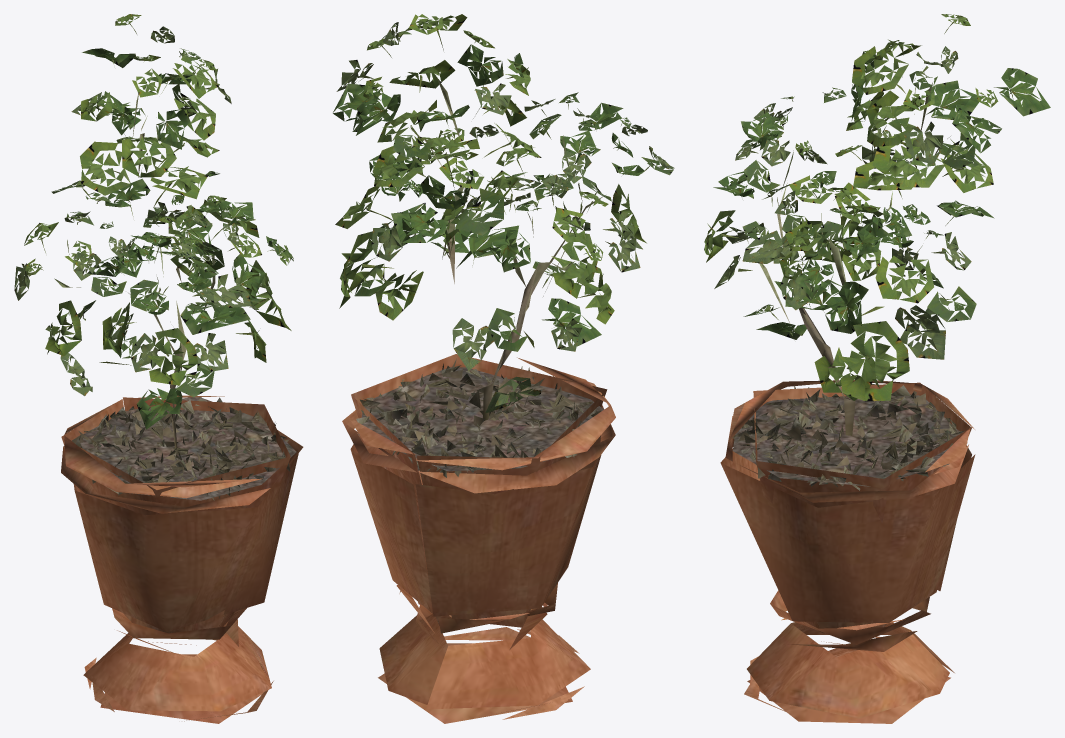
The model's file is potted_plant.glb.
3 views of the same model, side by side, from view 1: azimuth 30°, elevation 25°; view 2: azimuth 150°, elevation 25°; view 3: azimuth 270°, elevation 25° (orthographic). The views are drawn at different scales.
Visible parts, largest first — view 1: potted_plant; view 2: potted_plant; view 3: potted_plant.
Part boxes in pixels (x1,y1,x2,y2): potted_plant: (14, 14, 303, 723); potted_plant: (333, 14, 674, 723); potted_plant: (704, 14, 1050, 723).
Size of the model in its own units: 0.587 by 1.34 by 0.6264.
2 materials, 2 textured.
